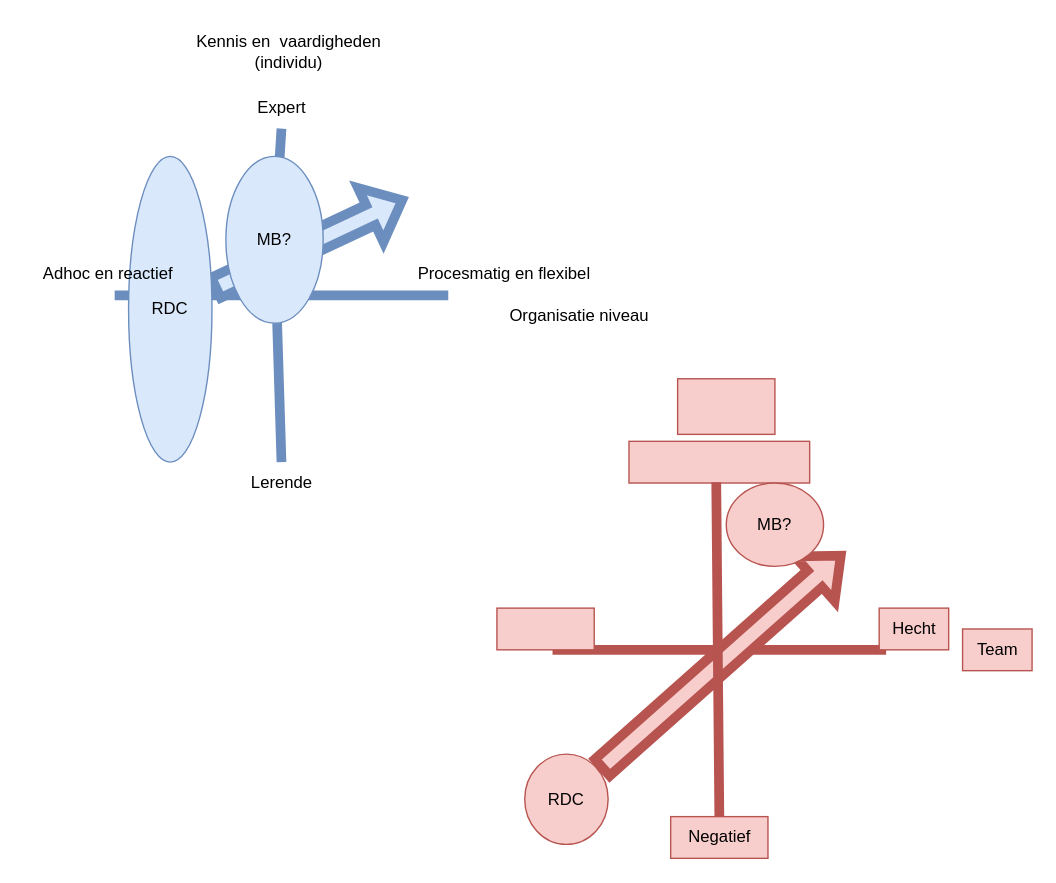
Some shapes in this 1056 by 883 pixel diagram are drawn without their labels. Here are the shapes that lost their labels. From the top down, the centre of each, then its label:
At point 725,405: "Houding (individu)".
At point 719,461: "Positief constructief".
At point 545,628: "Los zand".
